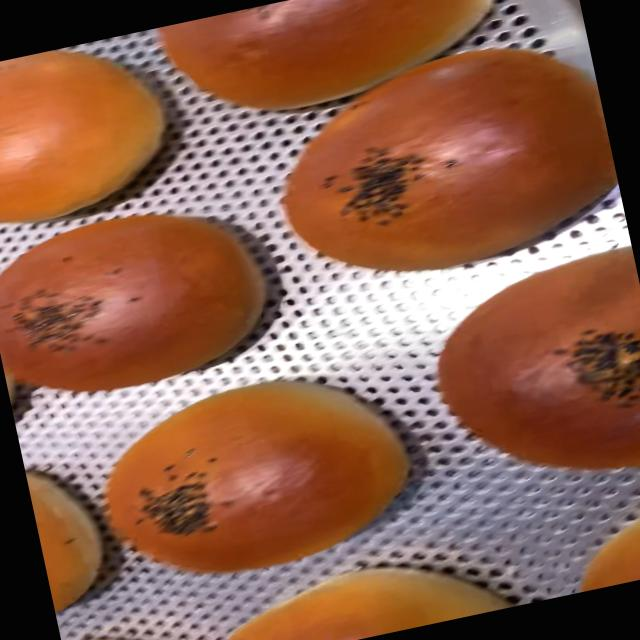bread: (250, 21, 629, 306), (59, 353, 427, 600), (0, 184, 278, 411), (152, 0, 520, 137), (63, 610, 234, 640)
